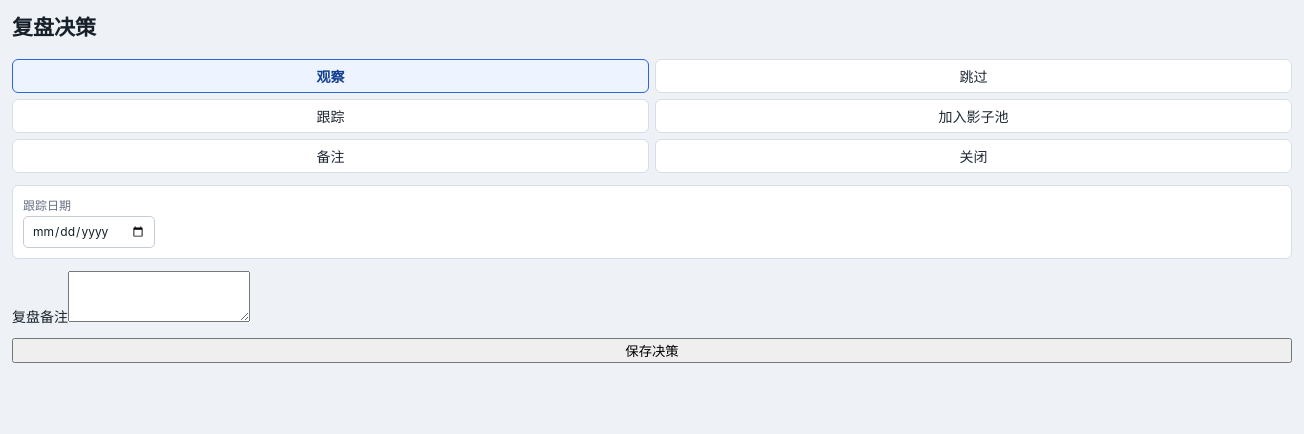
OperatorDecisionPanel › shows API errors clearly
What coordinates should you click on to do the following:
click the button with aria-label "Save decision"
I would click on:
 (652, 350)
Its box is left=12, top=338, right=1292, bottom=363.
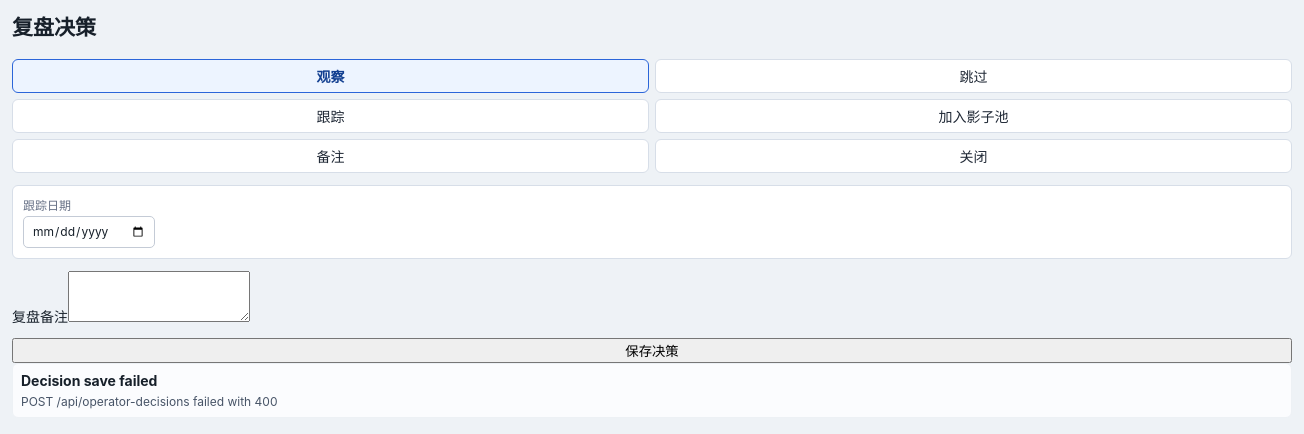
Check: the text "Decision save failed" is shown, box left=21, top=372, right=158, bottom=389
Check: the text "POST /api/operator-decisions failed with 400" is shown, box left=21, top=394, right=278, bottom=409
